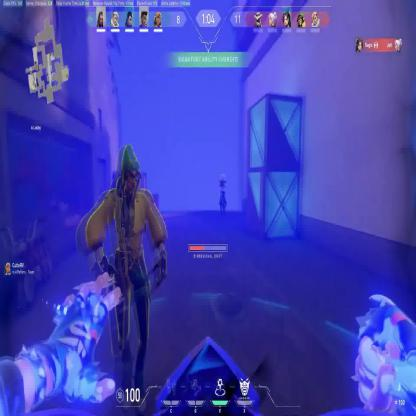enemy: (84, 144, 168, 408), (218, 172, 228, 214)
enemy_head: (119, 145, 141, 196), (221, 174, 225, 180)
